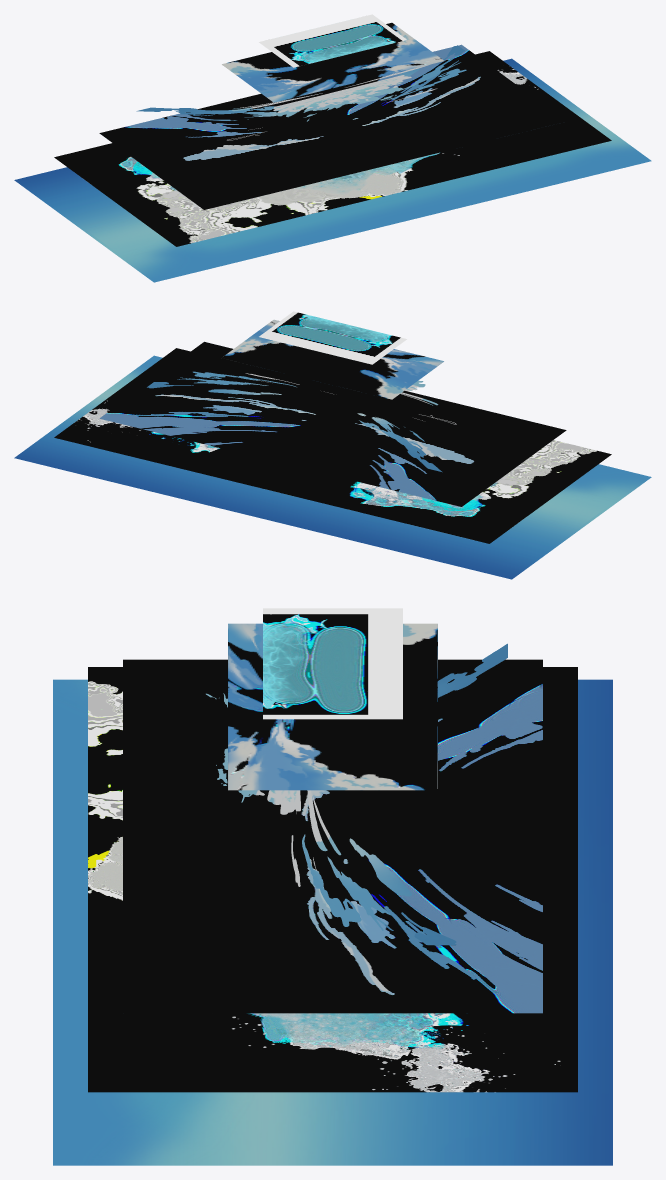
3 views of the same model, one above another, from view 1: azimuth 30°, elevation 25°; view 2: azimuth 150°, elevation 25°; view 3: azimuth 270°, elevation 25° (orthographic). The views are drawn at different scales.
Visible parts, largest first — view 1: Background, Foreground; view 2: Background, Foreground; view 3: Background, Foreground.
Part boxes in pixels (x1=…): Background: x1=14, y1=44, x2=651, y2=282; Foreground: x1=222, y1=14, x2=443, y2=102; Background: x1=14, y1=341, x2=651, y2=579; Foreground: x1=222, y1=311, x2=443, y2=399; Background: x1=53, y1=643, x2=612, y2=1165; Foreground: x1=228, y1=608, x2=437, y2=790.
Bounding box in the file's own units: 5794 × 1440 × 2822.
Materials: 7 (7 with a texture image).
